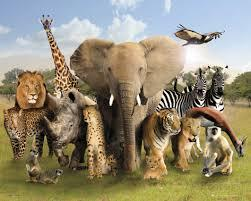Non_Gorille: (7, 2, 251, 190)
